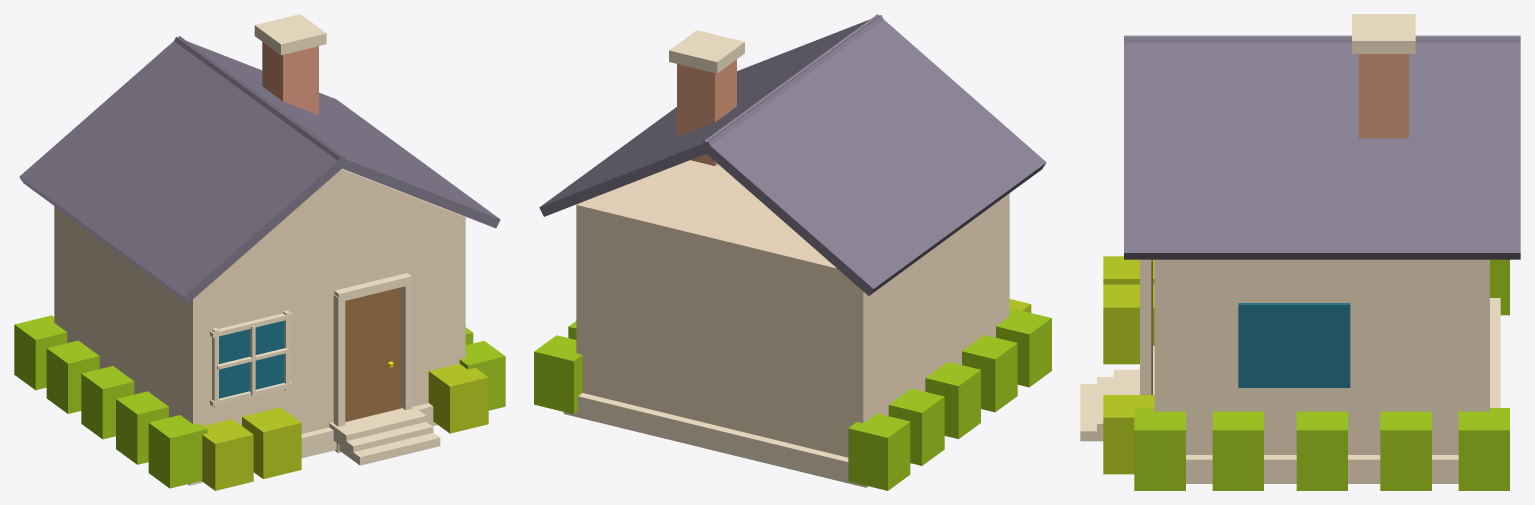
Rendered from House_Cream_Compact.glb.
The picture shows the model from 3 angles, left to right: view 1: azimuth 30°, elevation 25°; view 2: azimuth 150°, elevation 25°; view 3: azimuth 270°, elevation 25°; orthographic projection. The views are drawn at different scales.
Visible parts, largest first — view 1: House_Cream_Compact; view 2: House_Cream_Compact; view 3: House_Cream_Compact.
Boxes of the visible parts, x1,y1,x2,y2 form: House_Cream_Compact: (14, 14, 505, 490); House_Cream_Compact: (534, 14, 1051, 490); House_Cream_Compact: (1080, 14, 1520, 490).
Bounding box in the file's own units: 4.19 × 4.02 × 3.94.
